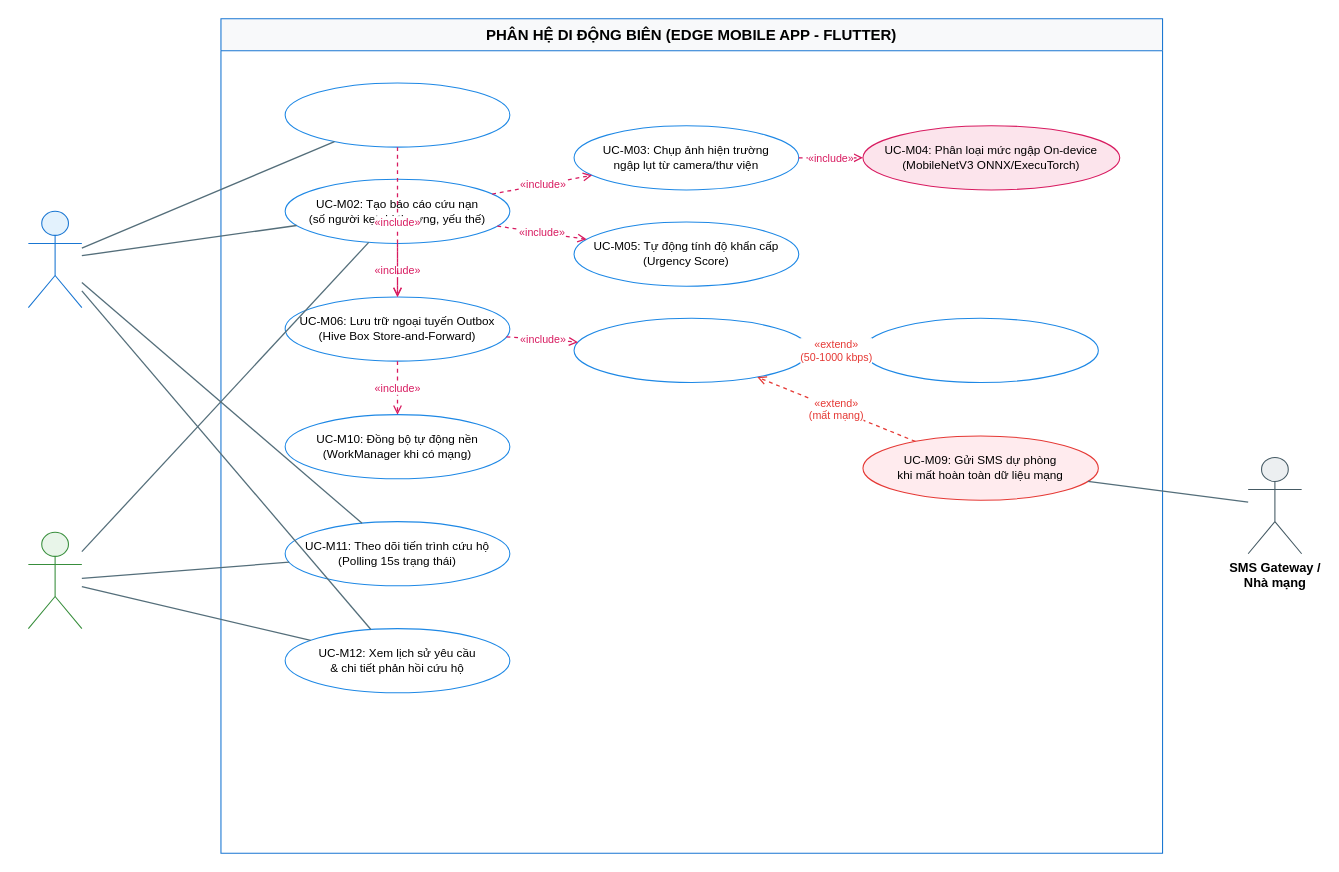
Image size: 1339x872. Some labels were removed from this diagram. The shapes that lost their labels are listed below. From the top down, each one's centre as x and y in pixels, then its label:
the point at 397,114: UC-M01: Gửi SOS khẩn cấp (1 chạm, định vị nhanh)
the point at 54,259: Người dân / Nạn nhân
the point at 691,350: UC-M07: Đo thông lượng mạng (/probe) & Chọn chế độ truyền thích ứng
the point at 980,350: UC-M08: Nén ảnh thông minh (JPEG max 1024px, quality 60)
the point at 54,580: Đội cứu hộ thực địa
